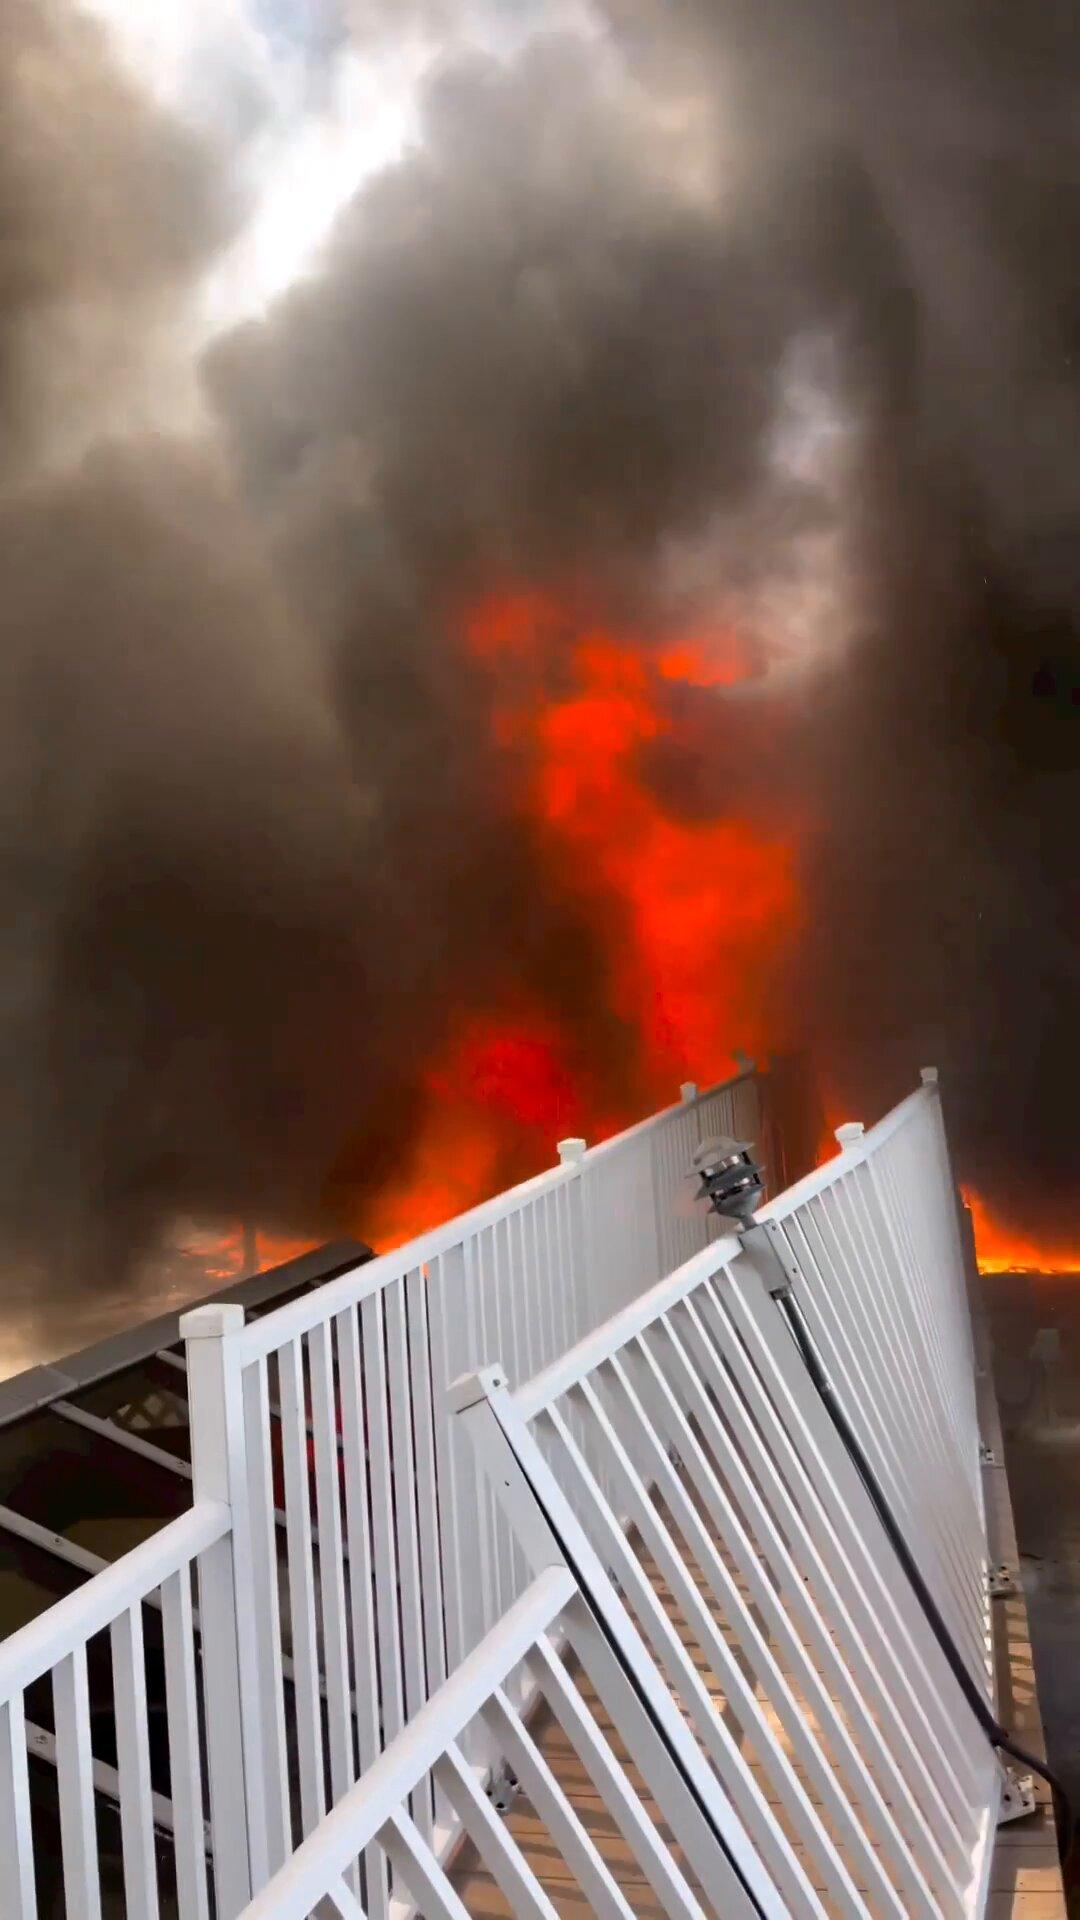fire: (497, 628, 782, 1158)
smoke: (349, 33, 1080, 620), (20, 491, 396, 1175), (825, 650, 1069, 1139)
